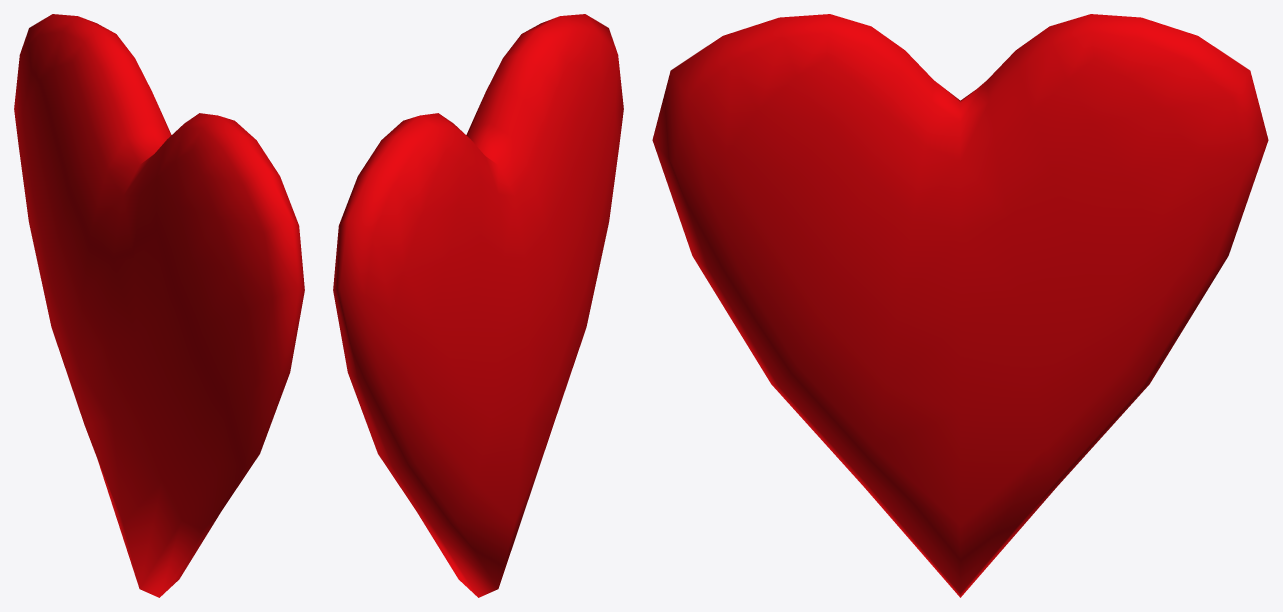
Rendered from herz.glb.
3 views of the same model, side by side, from view 1: azimuth 30°, elevation 25°; view 2: azimuth 150°, elevation 25°; view 3: azimuth 270°, elevation 25° (orthographic). The views are drawn at different scales.
Parts seen in each view (by area): view 1: herz; view 2: herz; view 3: herz.
Boxes of the visible parts, <box> form: herz: <box>14,14,304,597</box>; herz: <box>333,14,623,597</box>; herz: <box>652,14,1268,597</box>.
Bounding box in the file's own units: 0.3183 × 1.59 × 1.52.
